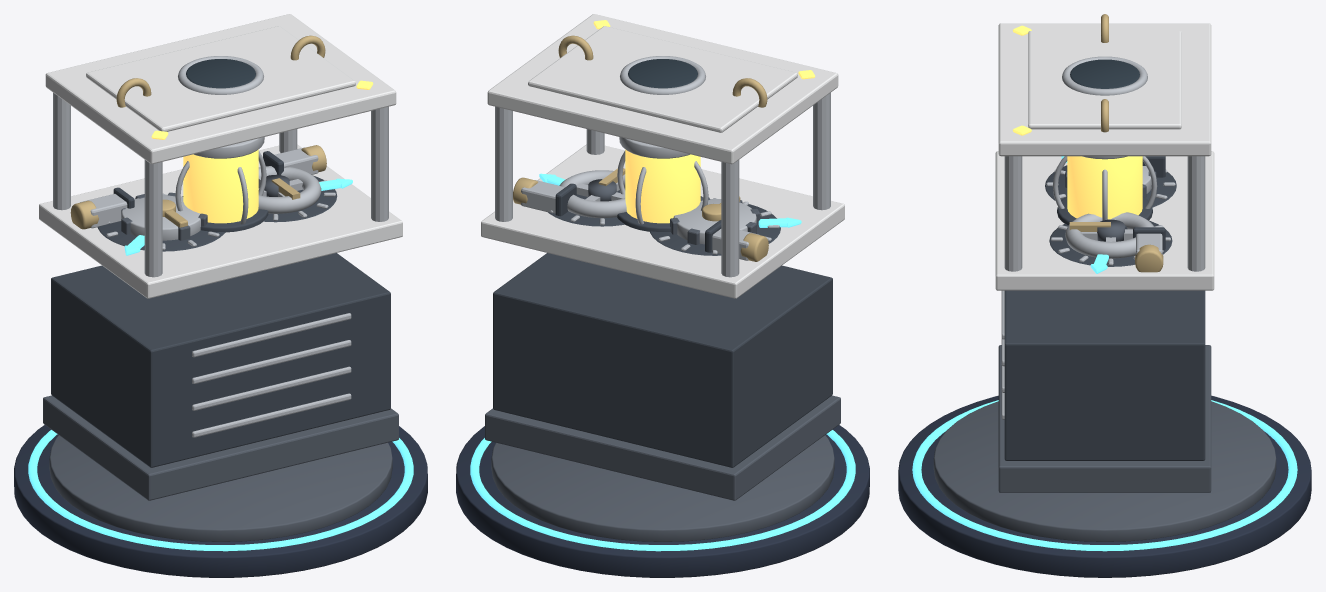
The model's file is device_003.glb.
The picture shows the model from 3 angles, left to right: view 1: azimuth 30°, elevation 25°; view 2: azimuth 150°, elevation 25°; view 3: azimuth 270°, elevation 25°; orthographic projection.
Parts seen in each view (by area): view 1: Body, AccessCover, PedestalTop, Pedestal, FuelRod, PedestalGlow, PressureValve, CalibrationDial, LockBarL, LockBarR; view 2: Body, AccessCover, PedestalTop, Pedestal, FuelRod, PedestalGlow, PressureValve, CalibrationDial, LockBarR, LockBarL; view 3: Body, AccessCover, PedestalTop, Pedestal, PedestalGlow, FuelRod, PressureValve, LockBarR.
Boxes of the visible parts, bbox=[...] form: Body: bbox=[39, 92, 402, 500]; AccessCover: bbox=[45, 14, 396, 164]; PedestalTop: bbox=[49, 435, 392, 541]; Pedestal: bbox=[14, 425, 427, 577]; FuelRod: bbox=[183, 137, 264, 223]; PedestalGlow: bbox=[28, 430, 413, 551]; PressureValve: bbox=[258, 166, 321, 213]; CalibrationDial: bbox=[121, 192, 207, 240]; LockBarL: bbox=[70, 187, 134, 229]; LockBarR: bbox=[263, 145, 326, 175]; Body: bbox=[481, 92, 844, 500]; AccessCover: bbox=[487, 14, 838, 164]; PedestalTop: bbox=[491, 435, 834, 541]; Pedestal: bbox=[456, 425, 869, 577]; FuelRod: bbox=[619, 137, 700, 223]; PedestalGlow: bbox=[470, 430, 855, 551]; PressureValve: bbox=[559, 168, 626, 218]; CalibrationDial: bbox=[670, 196, 760, 244]; LockBarR: bbox=[513, 177, 576, 216]; LockBarL: bbox=[705, 220, 768, 261]; Body: bbox=[995, 151, 1214, 492]; AccessCover: bbox=[998, 14, 1211, 156]; PedestalTop: bbox=[933, 401, 1276, 541]; Pedestal: bbox=[898, 395, 1311, 577]; PedestalGlow: bbox=[912, 400, 1297, 551]; FuelRod: bbox=[1067, 156, 1142, 219]; PressureValve: bbox=[1065, 212, 1153, 258]; LockBarR: bbox=[1133, 227, 1165, 272].
Bounding box in the file's own units: 1.4 × 1.62 × 1.4.
